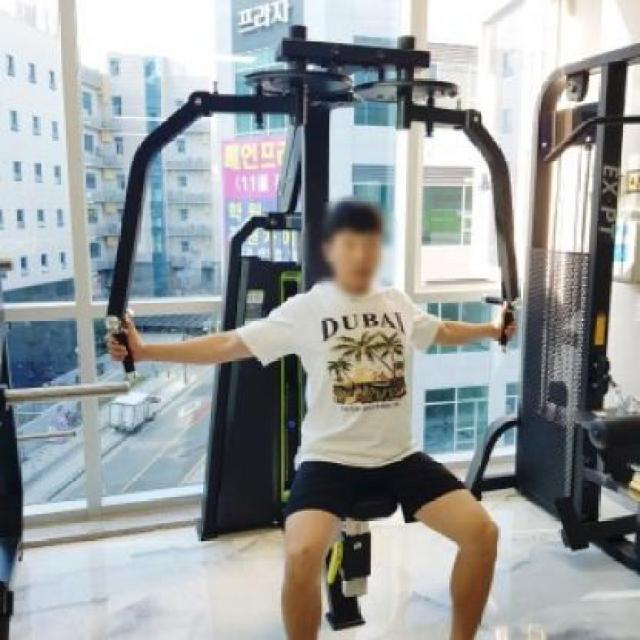chest fly machine: (68, 0, 562, 640)
